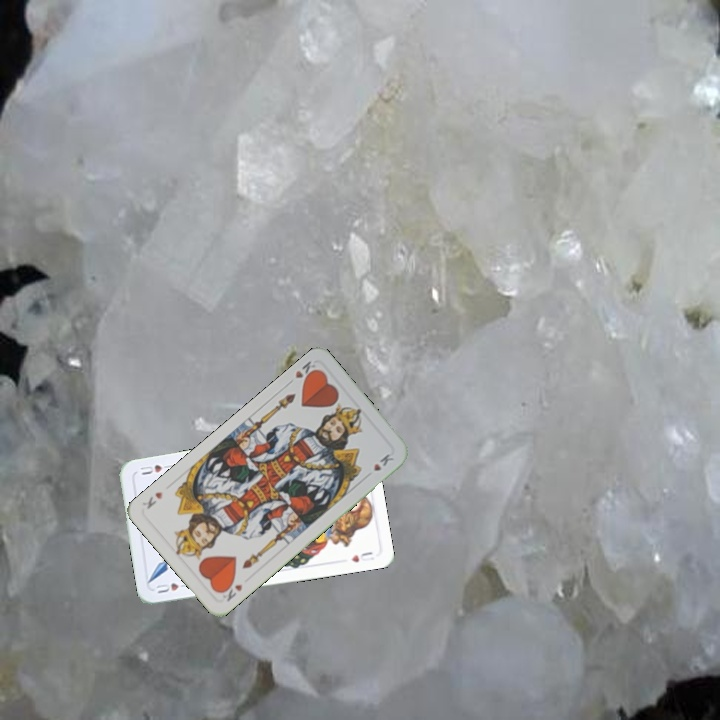HK: (283, 356, 321, 388), (217, 577, 245, 604)
HU: (152, 579, 192, 596)
